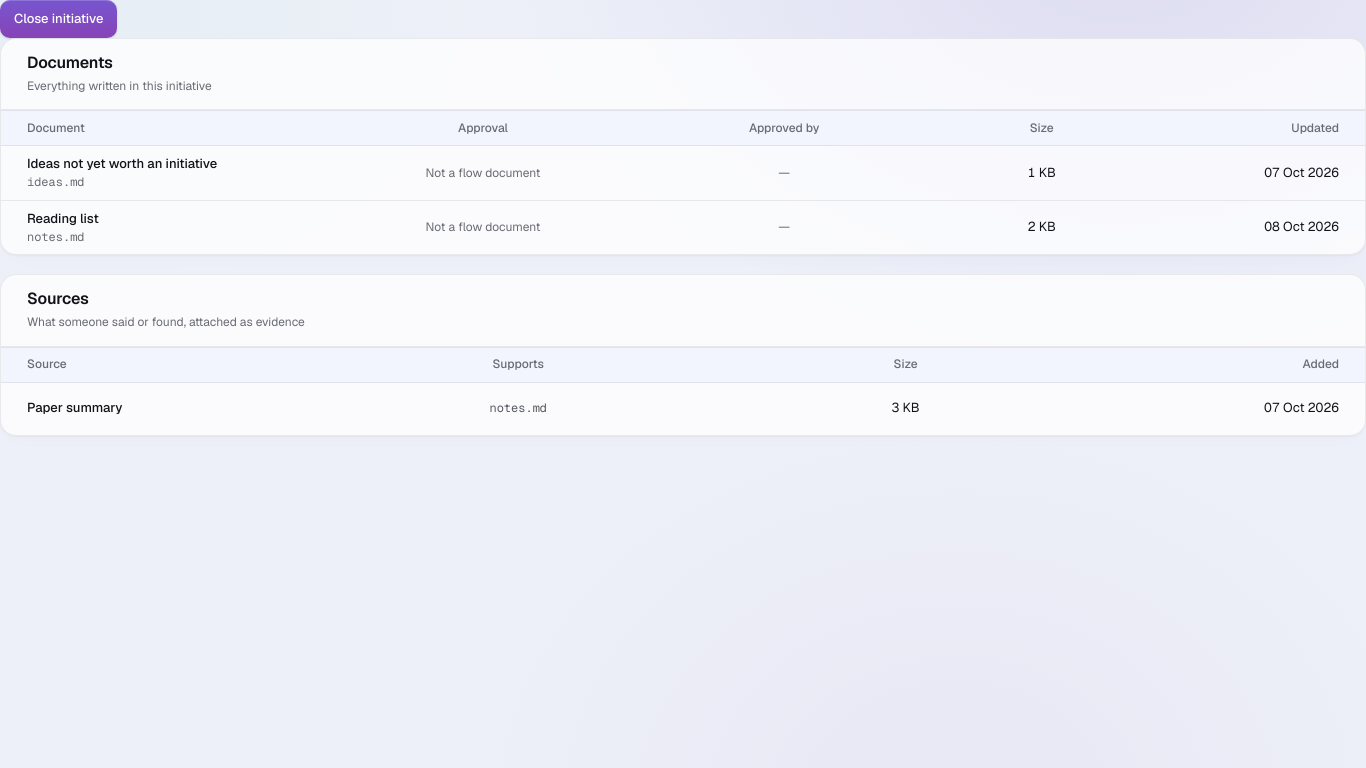
Scenario: an initiative with no flow › as the gateway answers it: no stepper, and a finished close offers the documents it may land on
Expected: the text "Everything written in this initiative" is shown, [27,78,212,95]
Click the button "Close initiative".
click(59, 19)  # box [0,0,117,38]
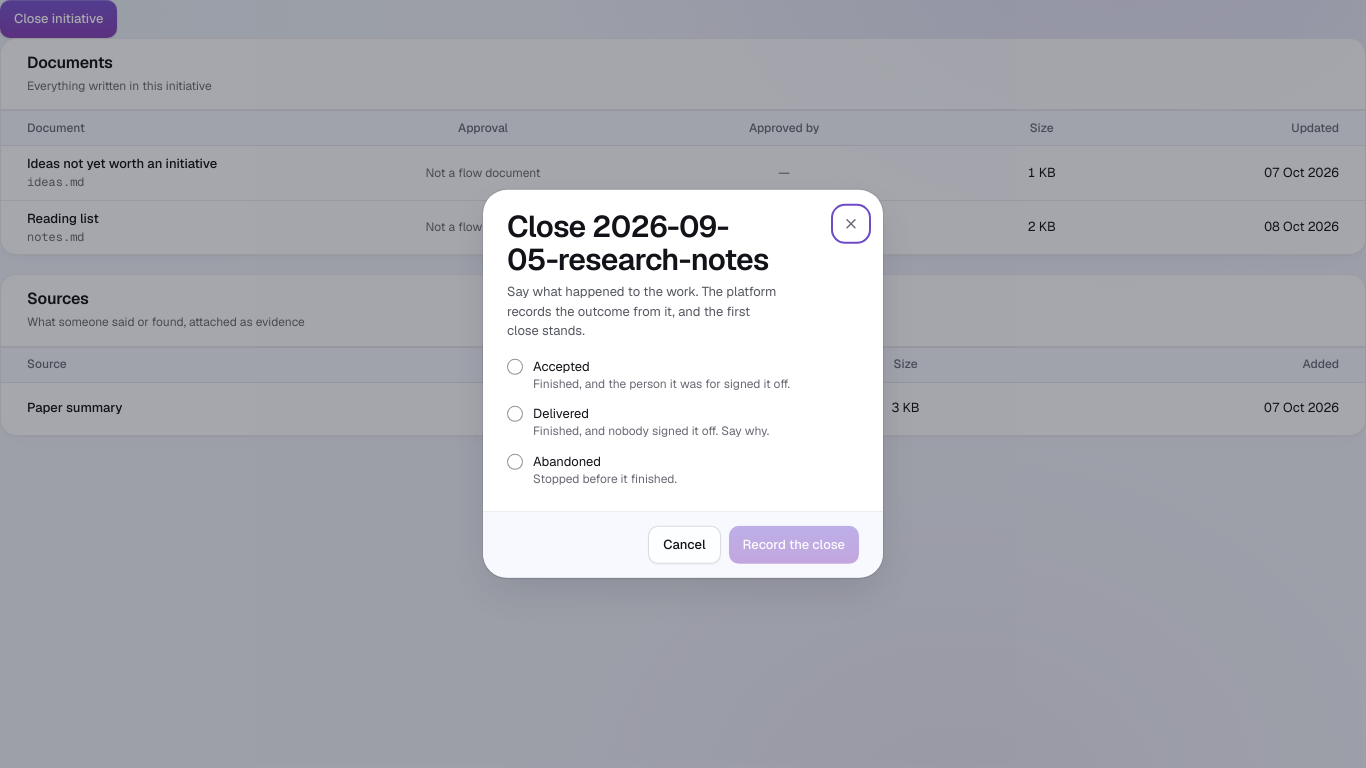
Click the radio button named "Accepted" next to "Accepted".
click(515, 366)  # box [507,358,523,374]
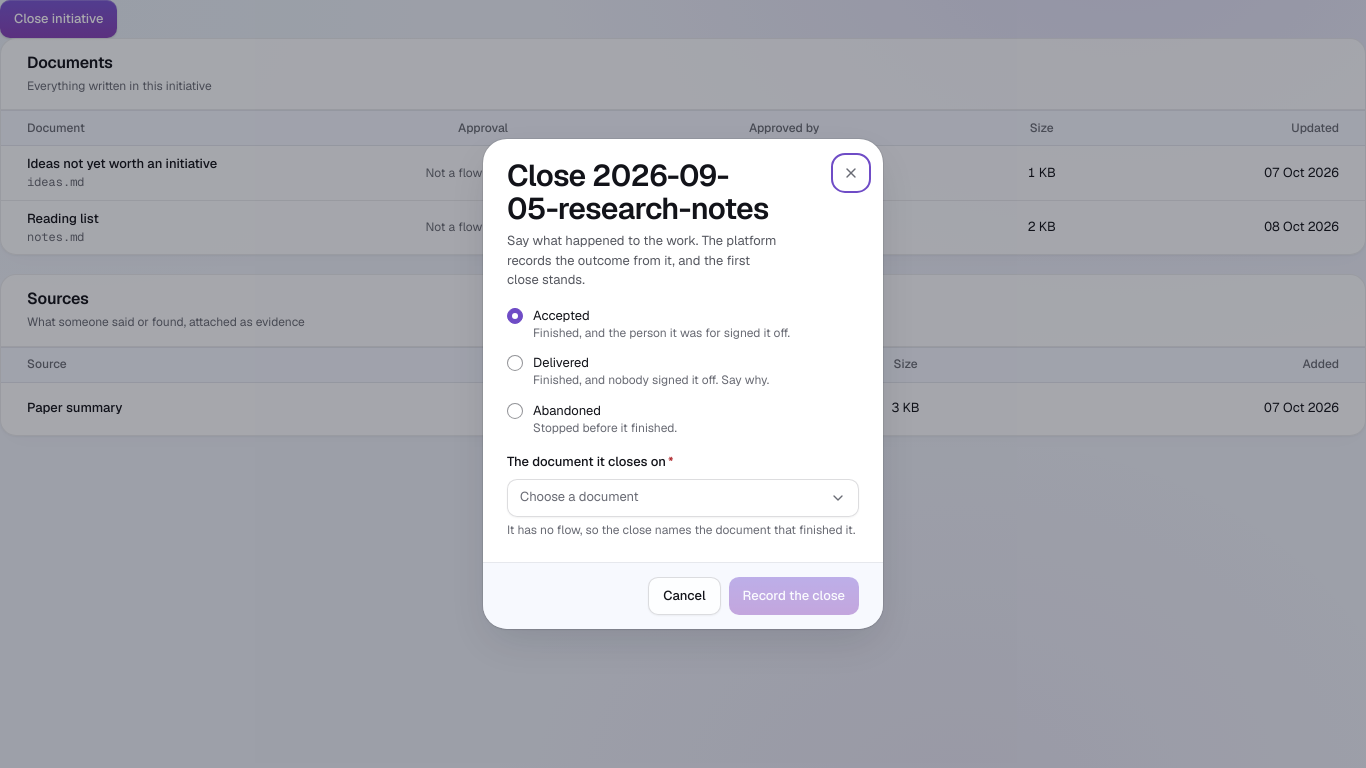
Result: the text "The document it closes on" is shown at [507,453,666,470]
Press Enter in the dropdown, box [507,478,859,516]
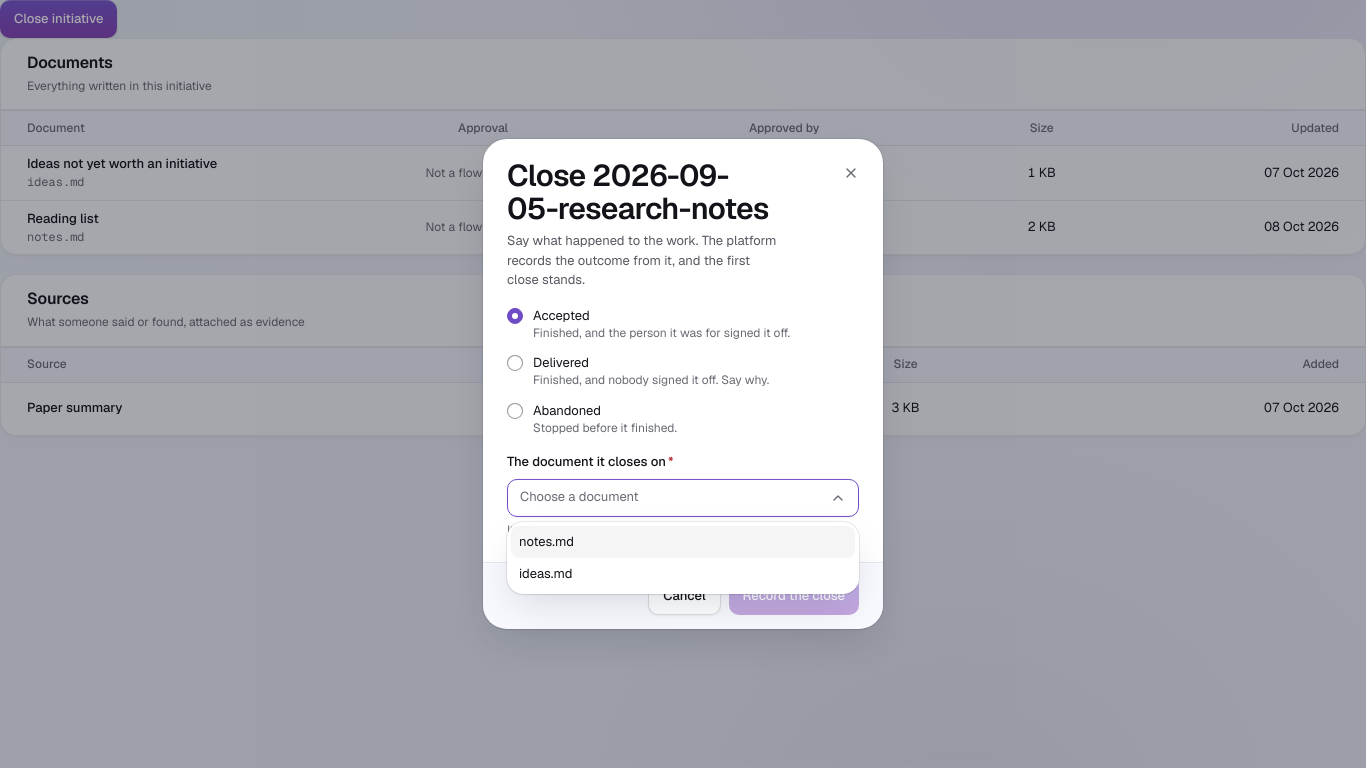
Result: the options read "notes.md", "ideas.md", in this order at [511,526,855,558]; [519,565,572,582]
